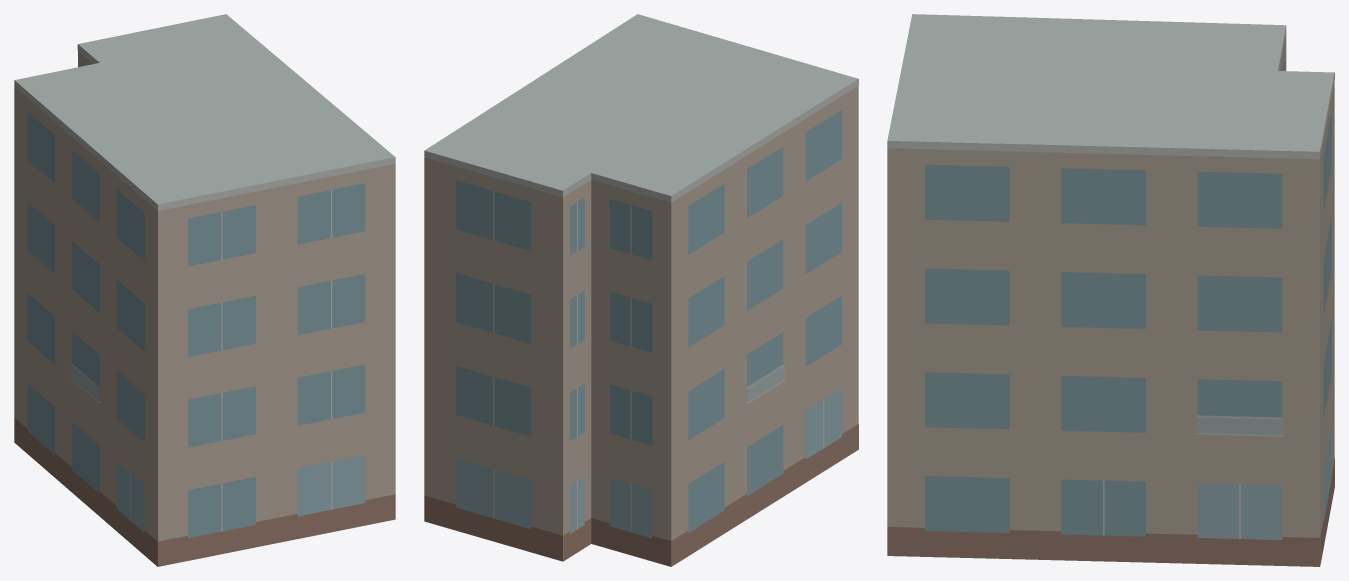
The model's file is survey-upis-33047459.glb.
3 views of the same model, side by side, from view 1: azimuth 30°, elevation 25°; view 2: azimuth 150°, elevation 25°; view 3: azimuth 270°, elevation 25° (orthographic). The views are drawn at different scales.
Visible parts, largest first — view 1: survey-upis-33047459.tmp; view 2: survey-upis-33047459.tmp; view 3: survey-upis-33047459.tmp.
Part boxes in pixels (x1,y1,x2,y2): survey-upis-33047459.tmp: (14, 14, 395, 566); survey-upis-33047459.tmp: (424, 14, 858, 566); survey-upis-33047459.tmp: (887, 14, 1334, 566).
Size of the model in its own units: 9.62 by 13.5 by 13.2.
